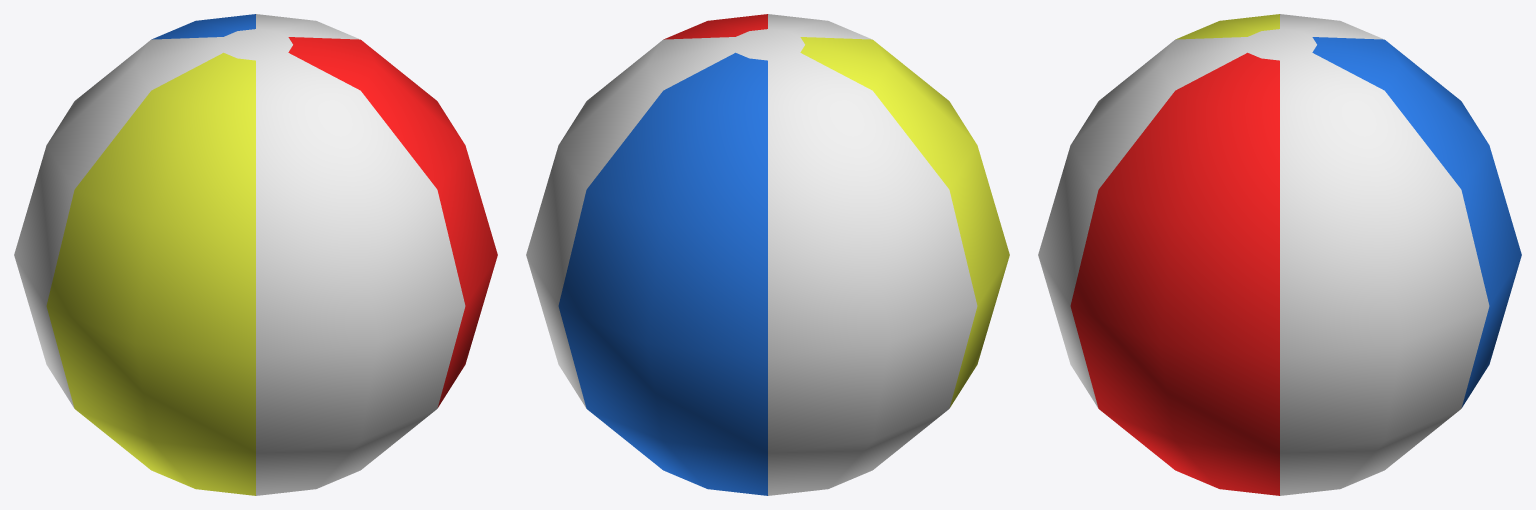
Rendered from PelotaPlaya.FBX.
3 views of the same model, side by side, from view 1: azimuth 30°, elevation 25°; view 2: azimuth 150°, elevation 25°; view 3: azimuth 270°, elevation 25° (orthographic).
Visible parts, largest first — view 1: Low; view 2: Low; view 3: Low.
Boxes of the visible parts, left/top/right/bottom form: Low: left=14, top=14, right=497, bottom=495; Low: left=526, top=14, right=1009, bottom=495; Low: left=1038, top=14, right=1521, bottom=495.
Size of the model in its own units: 30 by 28.76 by 30.
